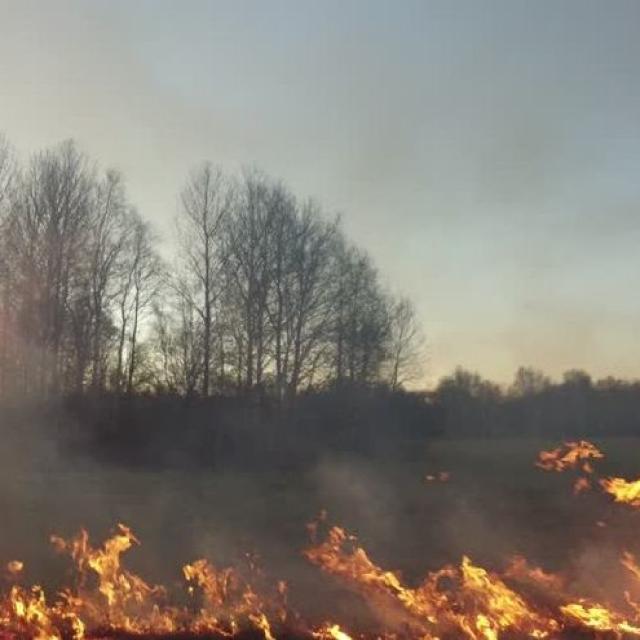Fire: (0, 498, 628, 630)
Smoke: (1, 321, 117, 481)
